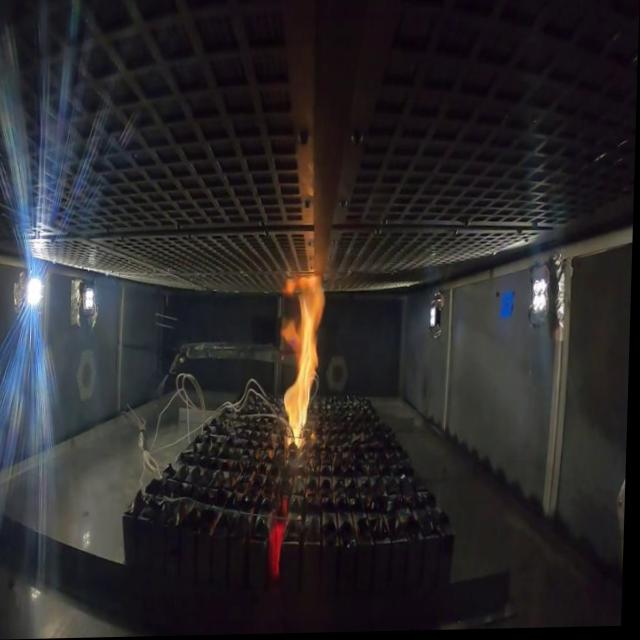fire: (278, 272, 333, 449)
